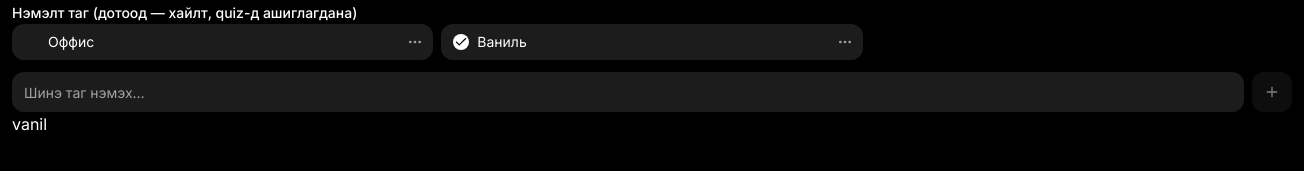
it: CustomTagField › un-ticks a tag that gets deleted
Click the button named "Ваниль — үйлдэл": (845, 42) [835,32,855,52]
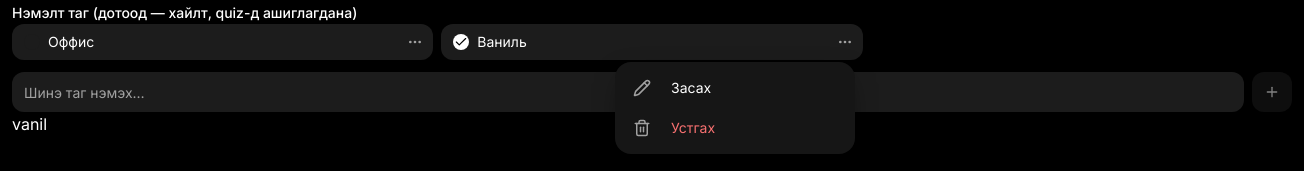
Click the menu item "Устгах": (674, 128) [633,119,715,137]
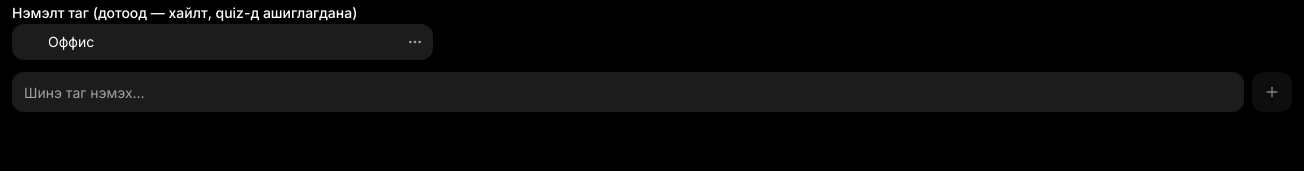
Expected: the text "Ваниль" is gone
